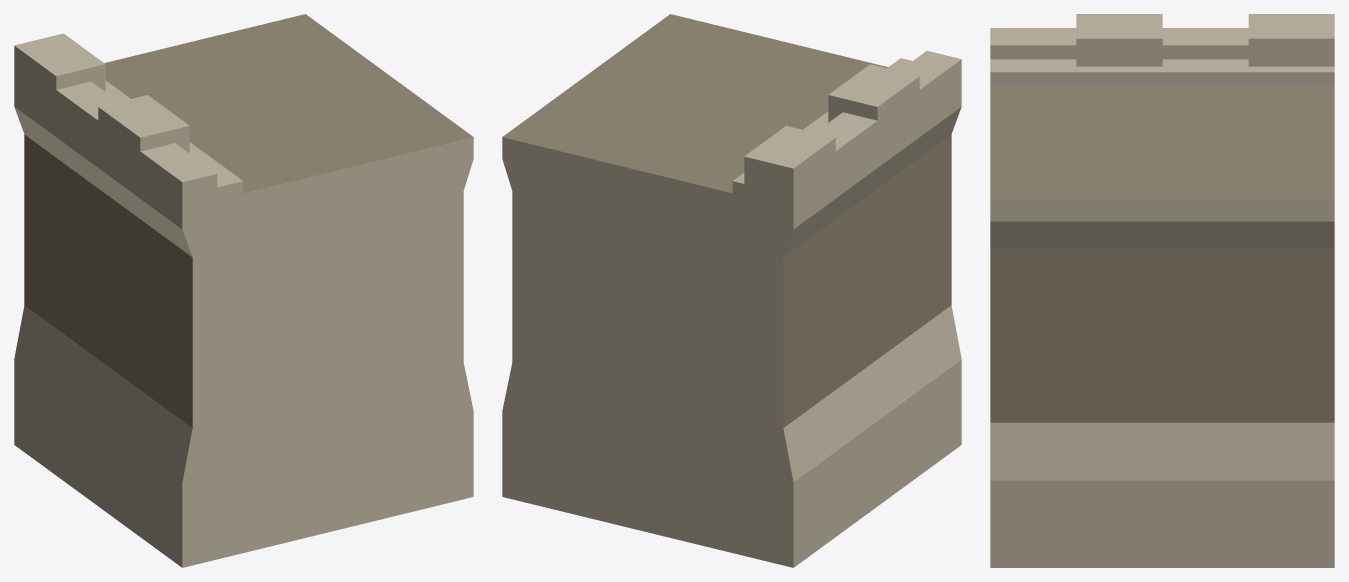
Rendered from wallHalf.glb.
3 renders of one model, left to right at view 1: azimuth 30°, elevation 25°; view 2: azimuth 150°, elevation 25°; view 3: azimuth 270°, elevation 25°, orthographic. The views are drawn at different scales.
Parts seen in each view (by area): view 1: mesh_0, mesh_1; view 2: mesh_0, mesh_1; view 3: mesh_1, mesh_0.
Boxes of the visible parts, bbox=[...] form: mesh_0: bbox=[14, 33, 473, 567]; mesh_1: bbox=[24, 14, 473, 427]; mesh_0: bbox=[502, 50, 961, 567]; mesh_1: bbox=[502, 14, 951, 427]; mesh_1: bbox=[990, 85, 1334, 422]; mesh_0: bbox=[990, 14, 1334, 567].
Size of the model in its own units: 10 by 13.1 by 10.
